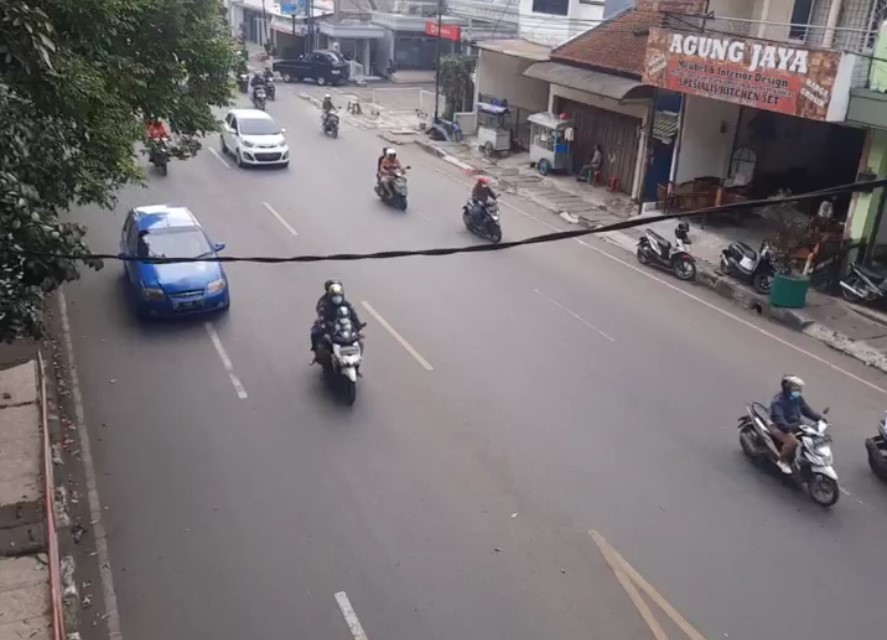mobil: (114, 200, 232, 323), (221, 106, 297, 170)
motor: (742, 368, 840, 511), (310, 279, 371, 405), (460, 174, 508, 247), (375, 146, 412, 208), (314, 98, 343, 142)
